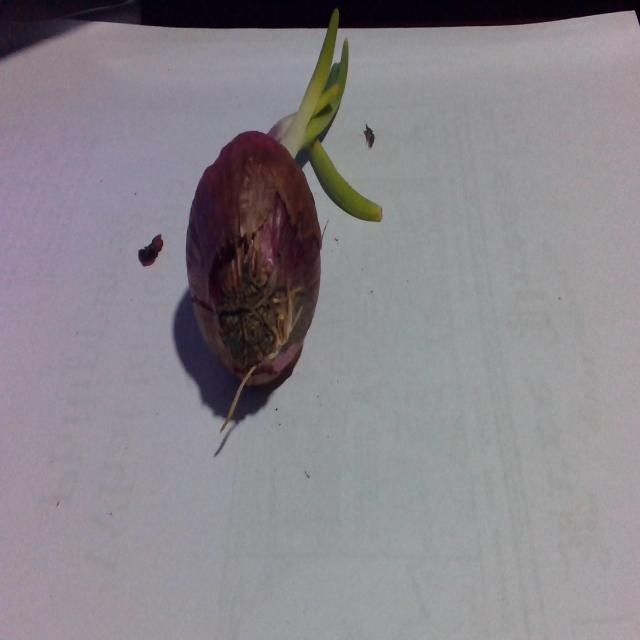onion: (169, 116, 328, 426)
